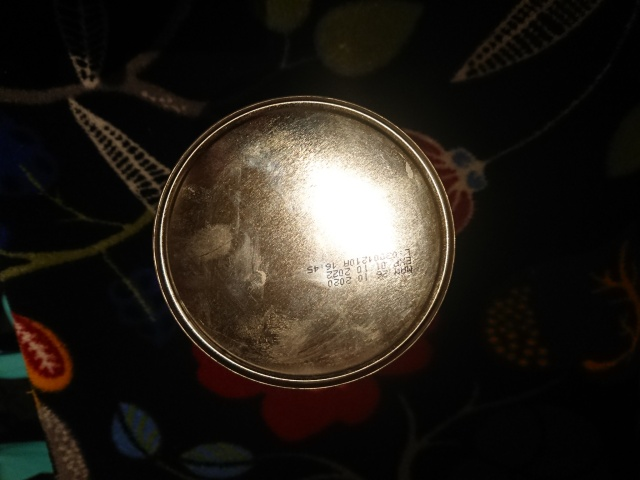Nescafe Classic 225g: (146, 90, 462, 397)
